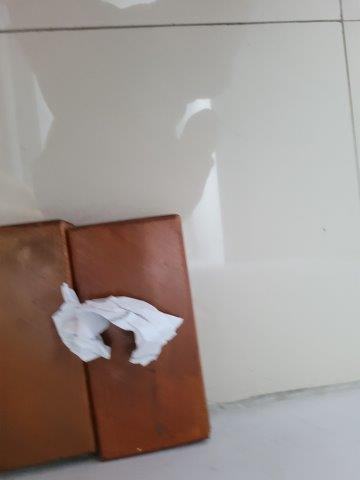kertas: (50, 281, 183, 365)
